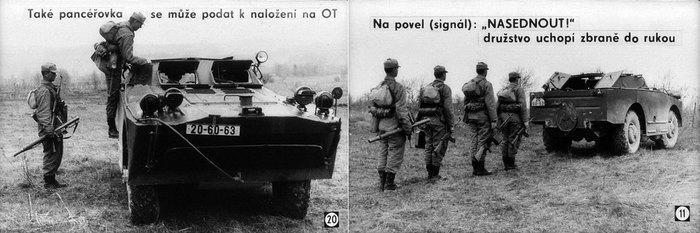MIL_IFV: (113, 51, 342, 225), (528, 67, 683, 157)
